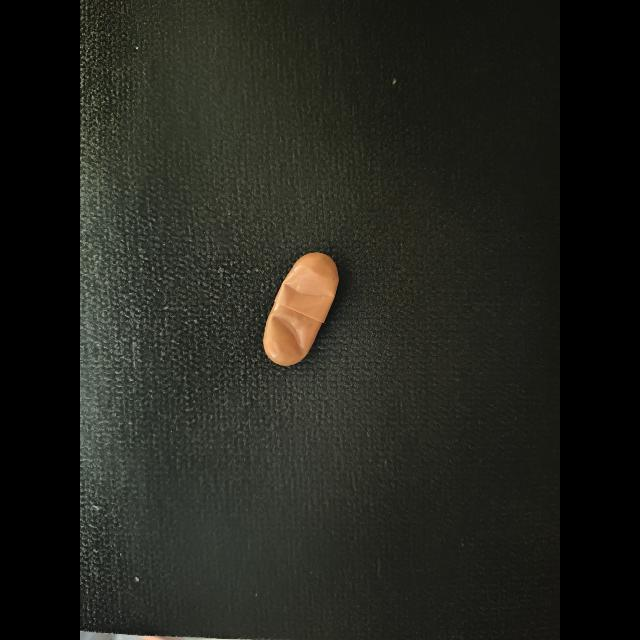Defective Capsule: (270, 313, 307, 357), (282, 282, 334, 309)
